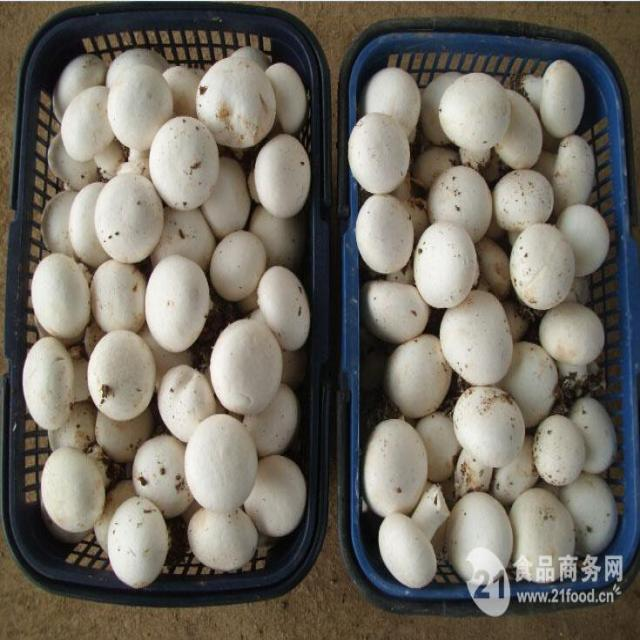Agaricus bisporus: (31, 50, 318, 580), (355, 60, 619, 588)
